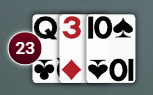10: (85, 12, 115, 44)
3: (57, 13, 87, 44)
q: (31, 12, 60, 43)
